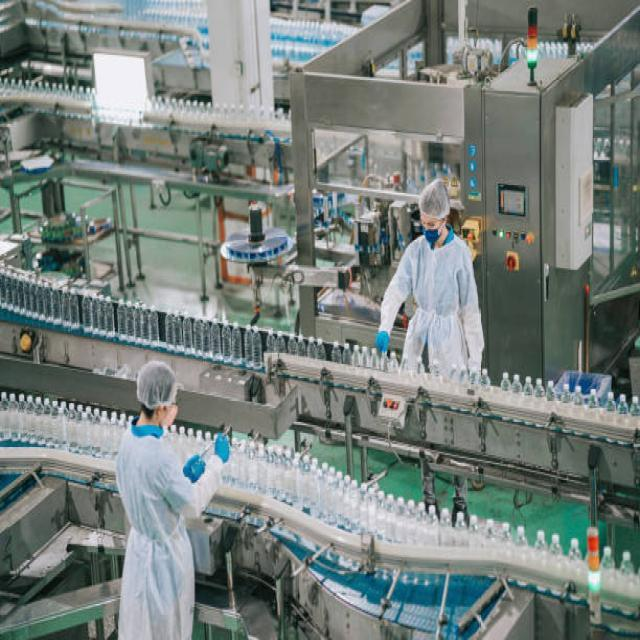Gloves: (179, 448, 206, 484), (209, 427, 231, 466), (371, 324, 391, 358)
